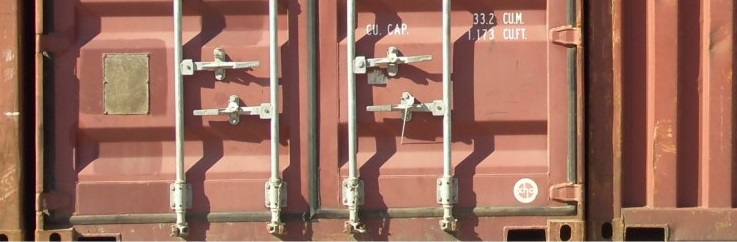container_door: (29, 5, 590, 242)
